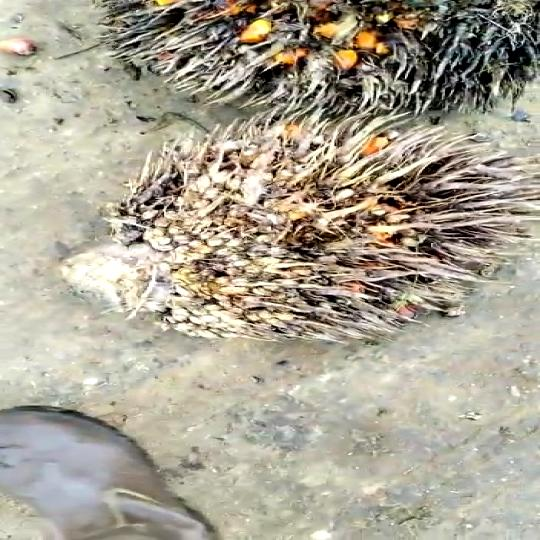terlalu masak: (98, 121, 540, 350), (98, 0, 540, 97)
